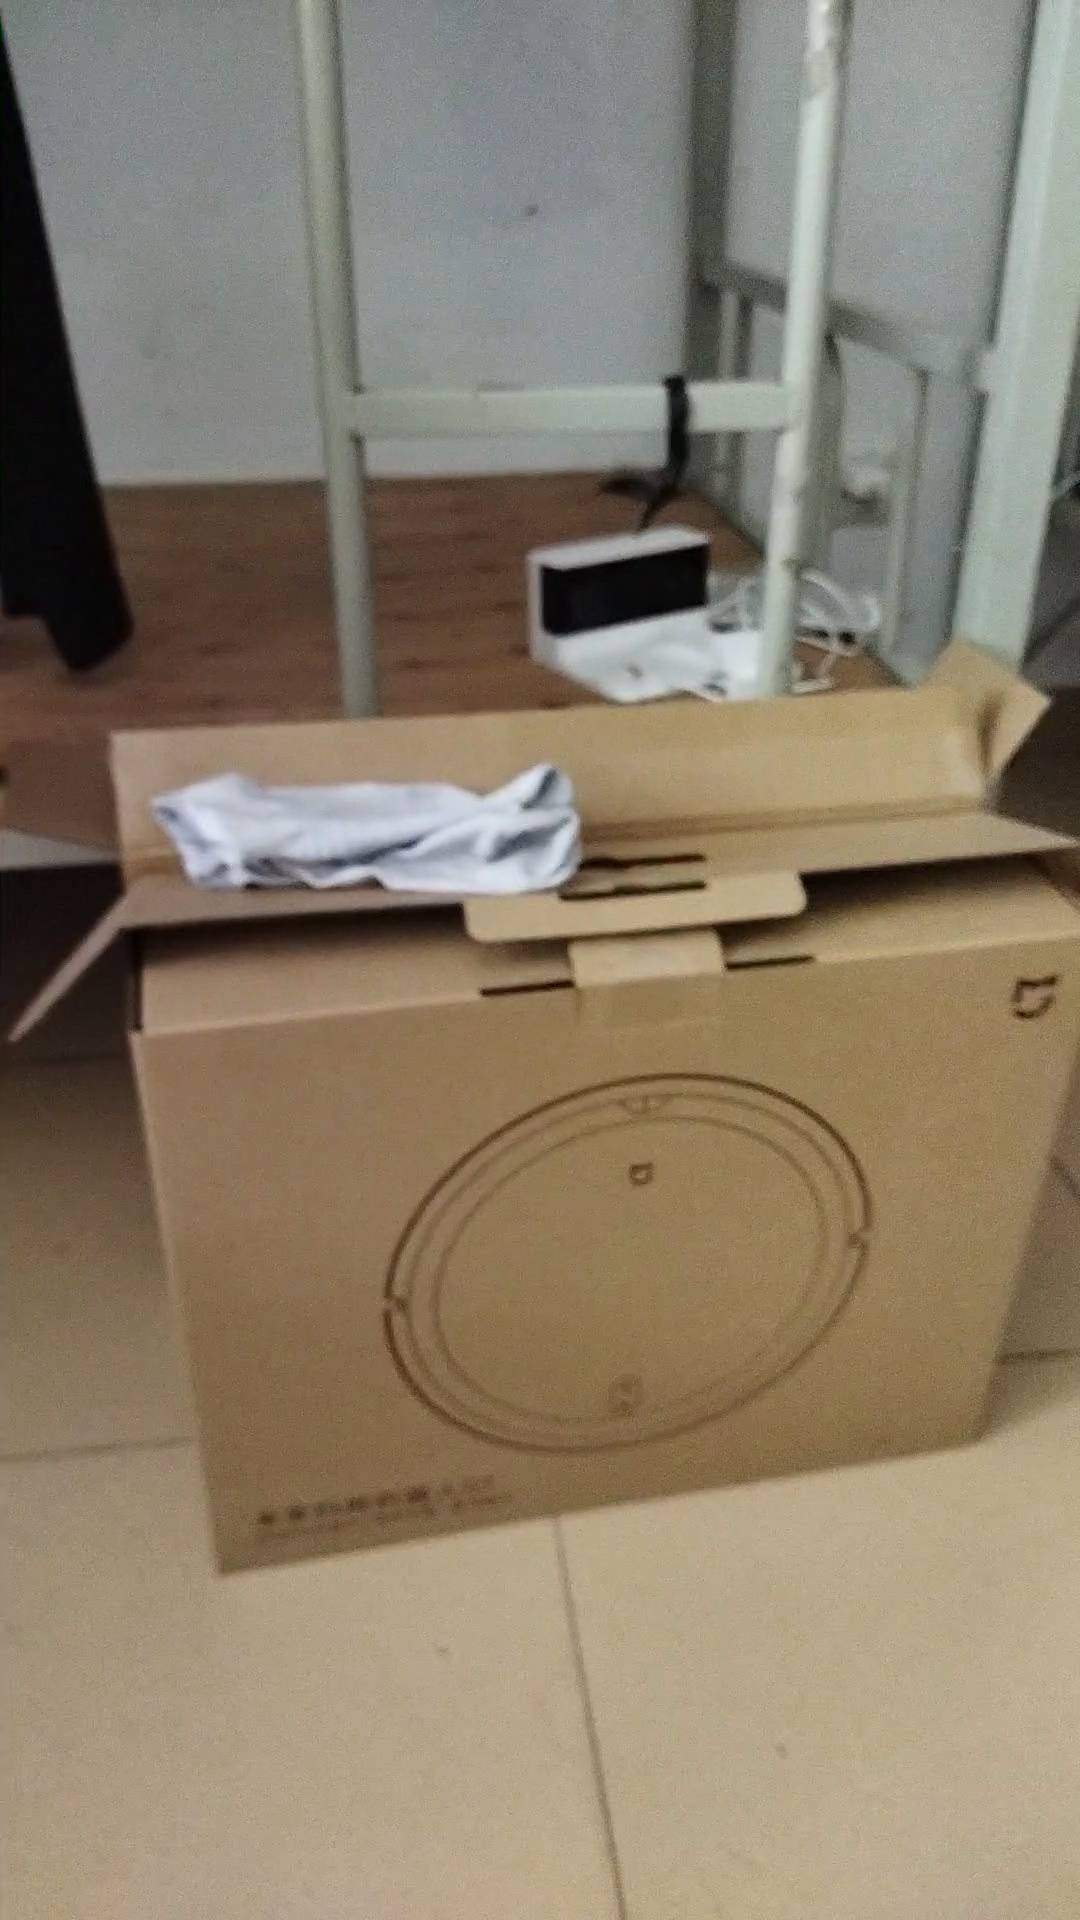recharge seat: (526, 524, 735, 705)
